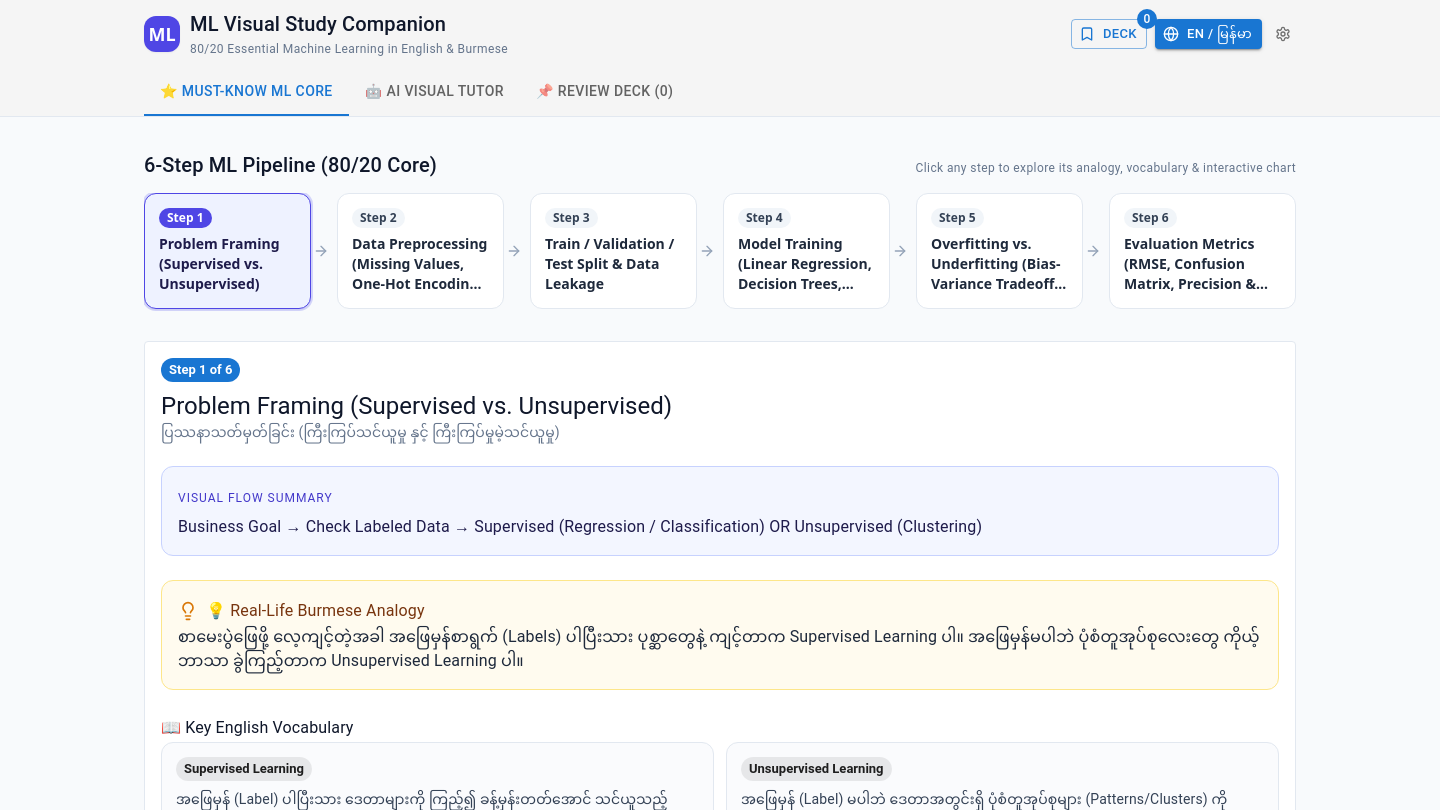
Scenario: CoreFlowchart and Phase 2 Study UI › updates the displayed Burmese analogy and vocabulary when clicking a step
Check: the text "စာမေးပွဲဖြေဖို့ လေ့ကျင့်တဲ့အခါ အဖြေမှန်စာရွက် (Labels) ပါပြီးသား ပုစ္ဆာတွေနဲ့ ကျင့်တာက Supervised Learning ပါ။ အဖြေမှန်မ" is shown, box [178,627,1260,670]
# Click Step 5 (Overfitting vs. Underfitting)
Click the button that starts with "Step 5" at (1000, 251), box [916,193,1083,309]
(page scrolled)
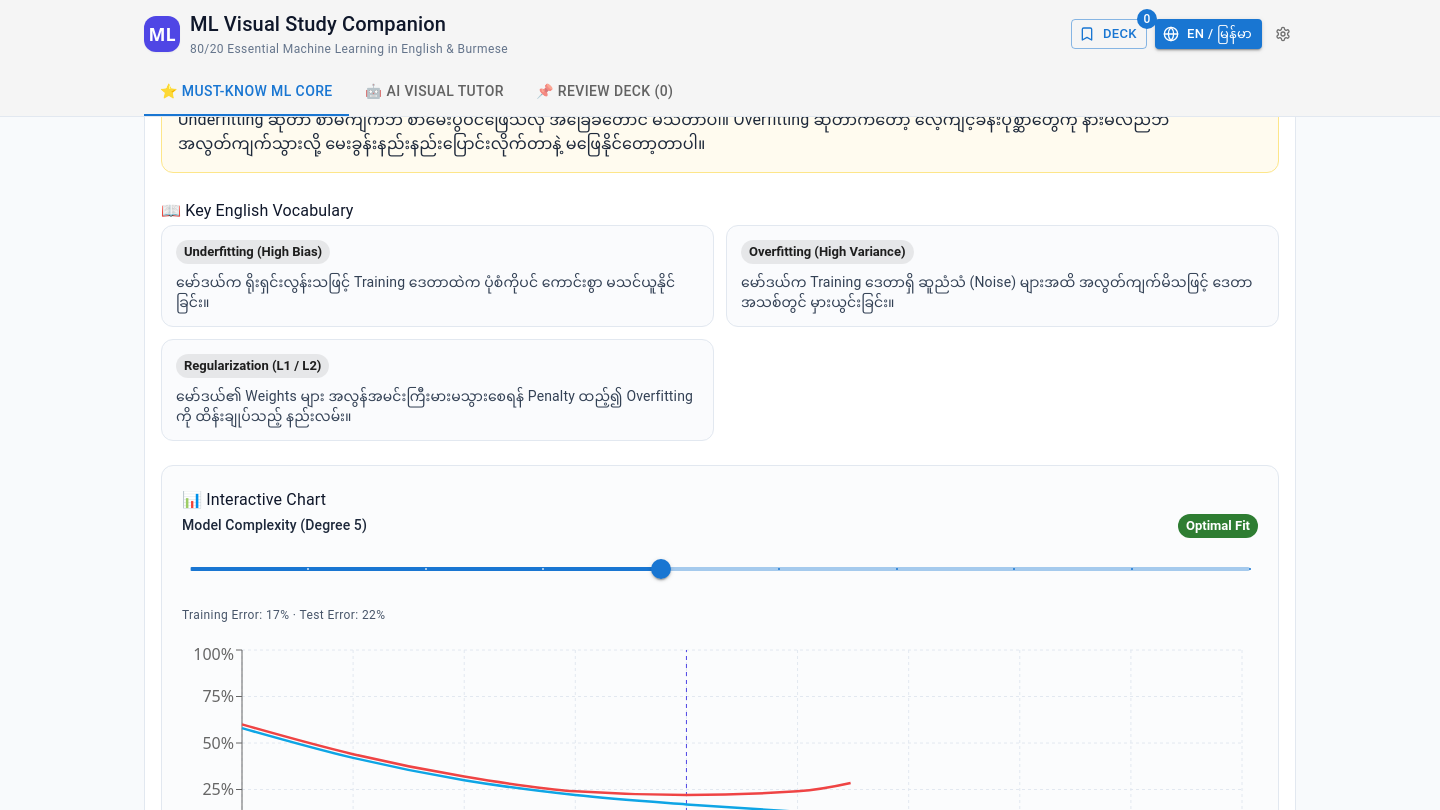
Check: the text "Underfitting ဆိုတာ စာမကျက်ဘဲ စာမေးပွဲဝင်ဖြေသလို အခြေခံတောင် မသိတာပါ။ Overfitting ဆိုတာကတော့ လေ့ကျင့်ခန်းပုစ္ဆာတွေကို နား" is shown, box [178,110,1169,153]
Check: the text "Underfitting (High Bias)" is shown, box [176,242,330,262]
Check: the text "မော်ဒယ်က ရိုးရှင်းလွန်းသဖြင့် Training ဒေတာထဲက ပုံစံကိုပင် ကောင်းစွာ မသင်ယူနိုင်ခြင်း။" is shown, box [176,274,675,310]
